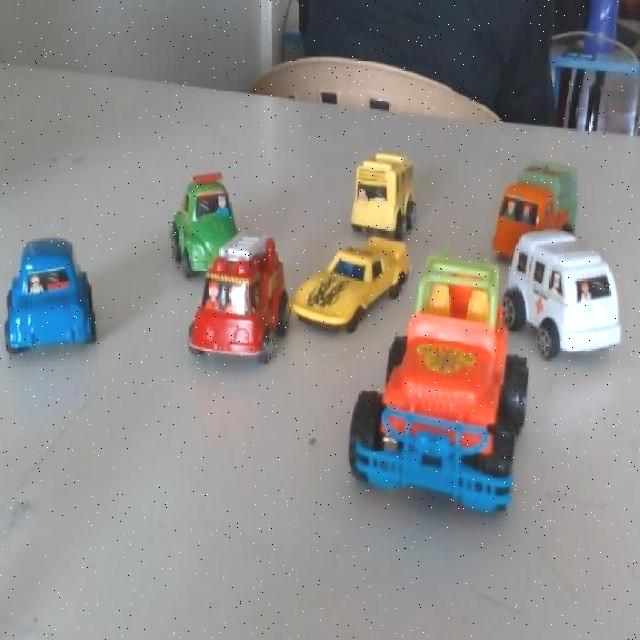car: (343, 312, 522, 534), (0, 230, 102, 374), (292, 232, 411, 347), (190, 233, 282, 373), (518, 239, 623, 352), (490, 156, 576, 258), (165, 176, 239, 276), (342, 141, 409, 238)
